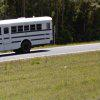Bus: (3, 13, 58, 55)
